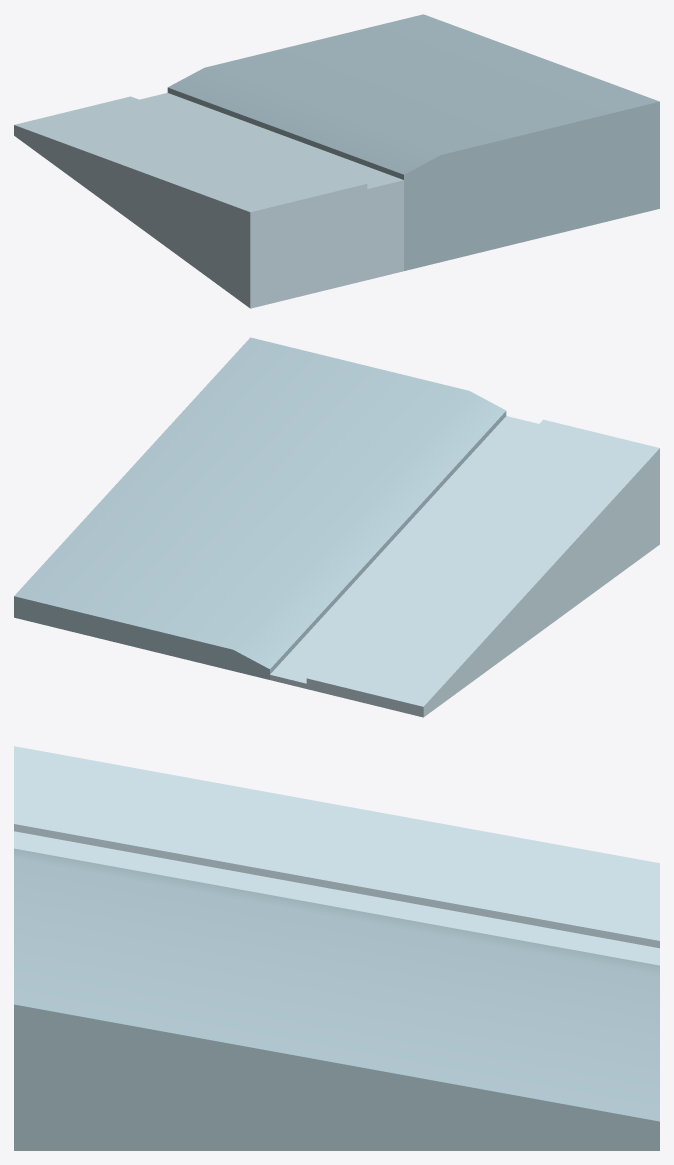
The picture shows the model from 3 angles, top to bottom: view 1: azimuth 30°, elevation 25°; view 2: azimuth 150°, elevation 25°; view 3: azimuth 270°, elevation 25°; orthographic projection. The views are drawn at different scales.
Visible parts, largest first — view 1: roadEdgeSlope; view 2: roadEdgeSlope; view 3: roadEdgeSlope.
Part boxes in pixels (<box>): roadEdgeSlope: <box>14,14,659,308</box>; roadEdgeSlope: <box>14,337,659,717</box>; roadEdgeSlope: <box>14,746,659,1150</box>.
Bounding box in the file's own units: 1 × 0.25 × 1.
